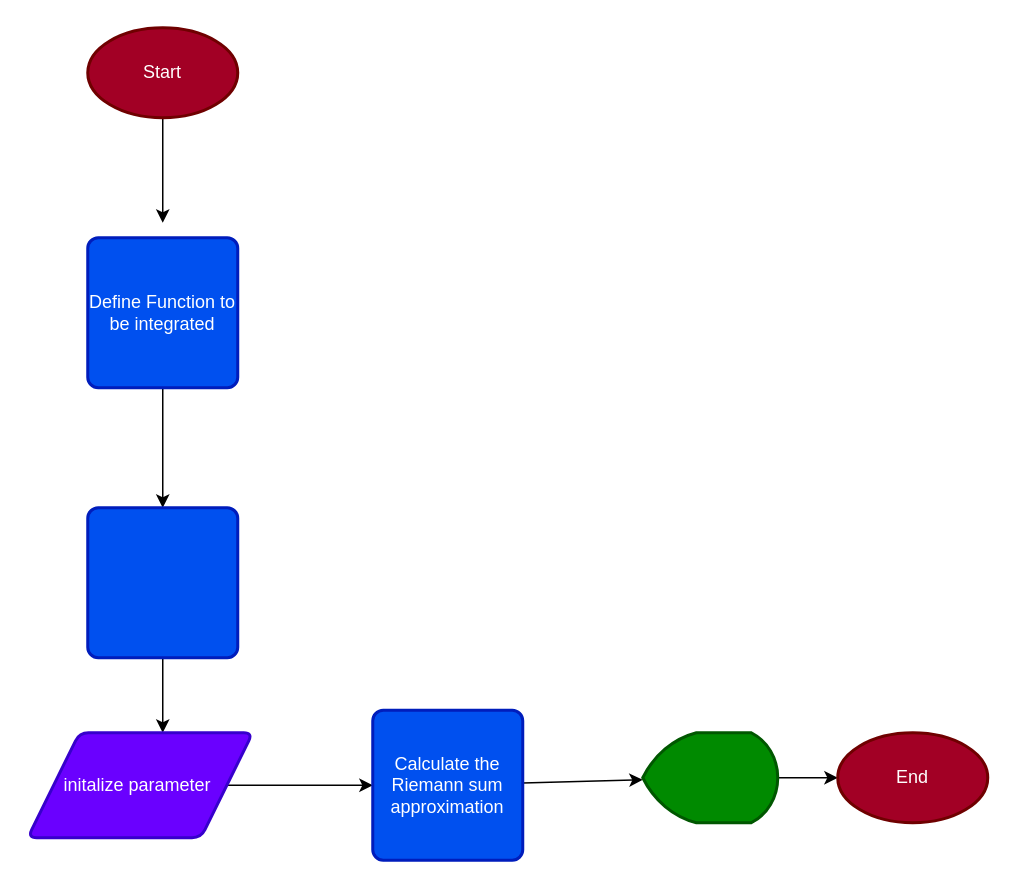
Some shapes in this 1014 by 887 pixel diagram are drawn without their labels. The shapes that lost their labels are listed below. From the top down, each one's centre as x and y in pixels, then its label:
At point (162, 582): "Define Riemann Function".
At point (709, 777): "Plot graph".
